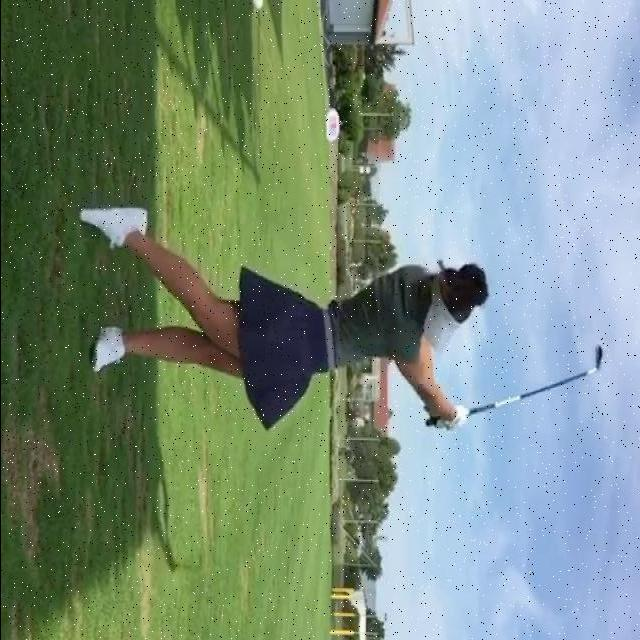ClubHandle: (421, 340, 605, 427)
ClubHead: (591, 343, 606, 372)
